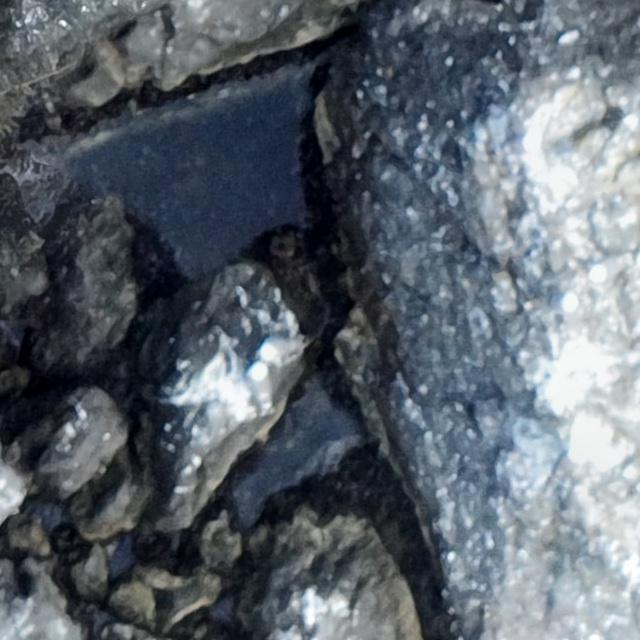umineko: (260, 335, 308, 359), (251, 365, 270, 412)
